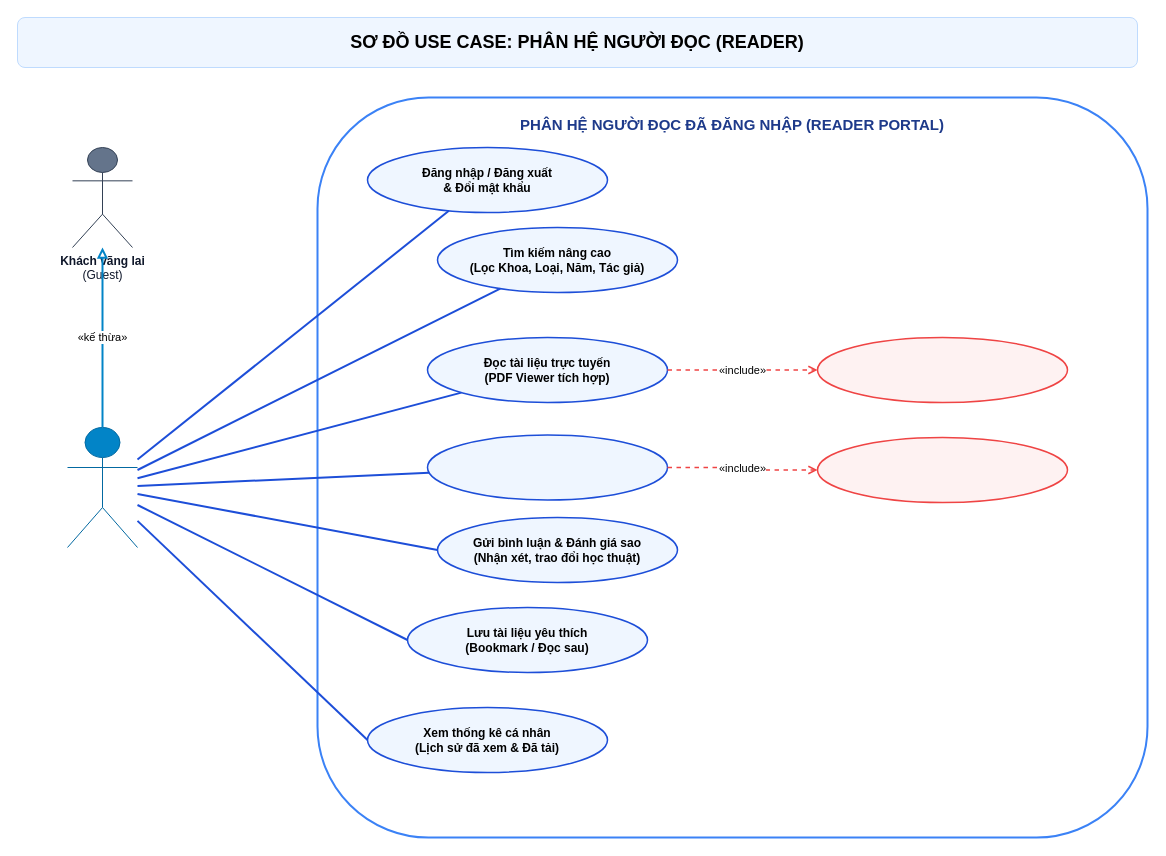
Image size: 1166x856. Some labels were removed from this diagram. Each missing label, with the box of its shape:
Ghi nhật ký tải & đọc (Download / View Logs): (816, 436, 1068, 503)
Kiểm tra quyền truy cập (Phạm vi PUBLIC / INTERNAL): (816, 336, 1068, 403)
Người đọc (Reader): (66, 426, 138, 548)
Tải tệp tin tài liệu (Download PDF / Phụ lục): (426, 434, 668, 500)
